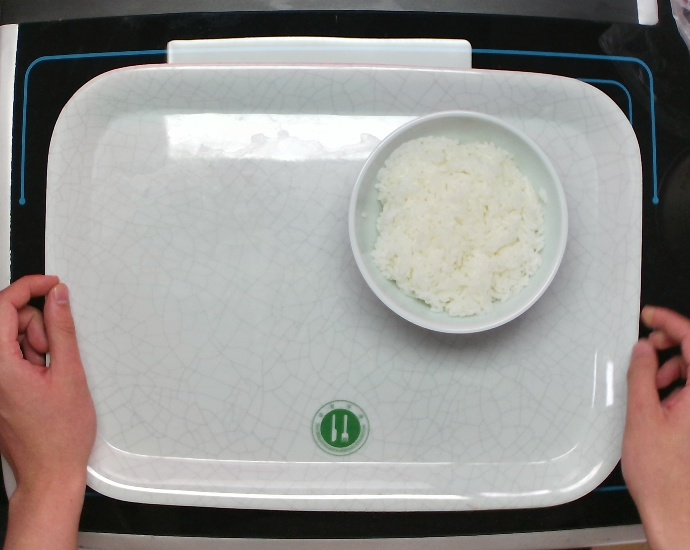JYsf-Fan_Wan: (344, 106, 571, 337)
